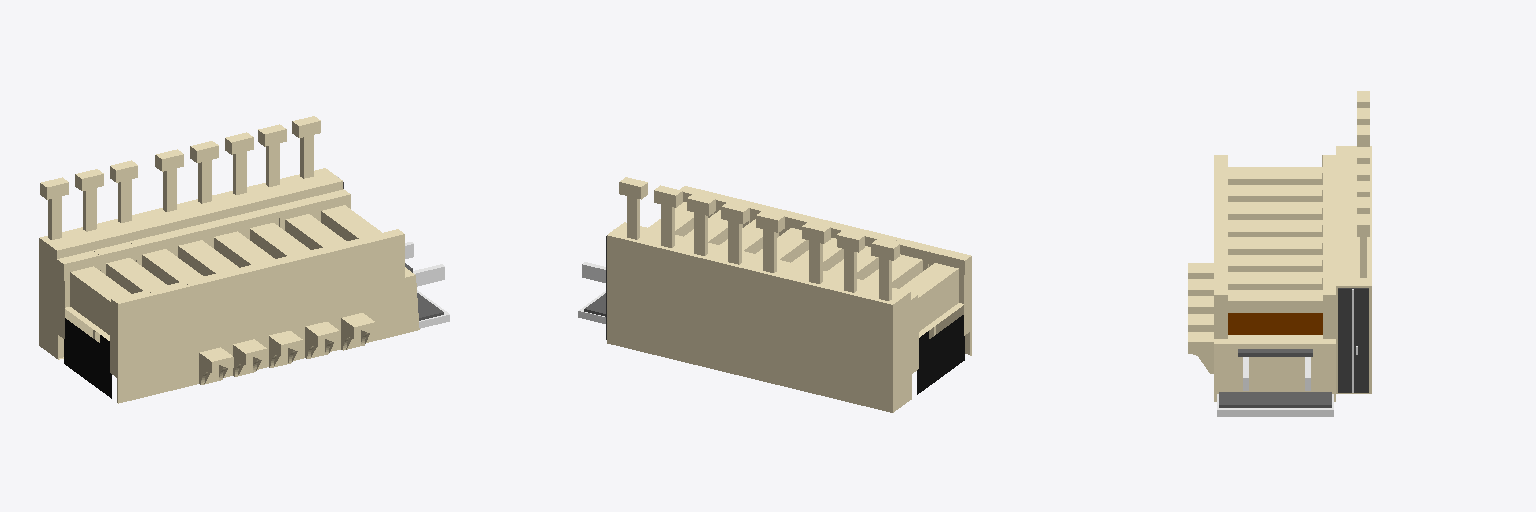
File: machine4.obj
3 renders of one model, left to right at view 1: azimuth 30°, elevation 25°; view 2: azimuth 150°, elevation 25°; view 3: azimuth 270°, elevation 25°, orthographic.
Parts seen in each view (by area): view 1: Mesh1 Group1 Model, Mesh8 Group1 Model; view 2: Mesh1 Group1 Model, Mesh8 Group1 Model; view 3: Mesh1 Group1 Model, Mesh7 Group1 Model.
Boxes of the visible parts, x1,y1,x2,y2 form: Mesh1 Group1 Model: [39, 116, 449, 403]; Mesh8 Group1 Model: [64, 318, 111, 398]; Mesh1 Group1 Model: [578, 177, 971, 412]; Mesh8 Group1 Model: [917, 315, 964, 394]; Mesh1 Group1 Model: [1188, 91, 1371, 416]; Mesh7 Group1 Model: [1238, 349, 1312, 356].
Bounding box in the file's own units: 226 × 104 × 105.